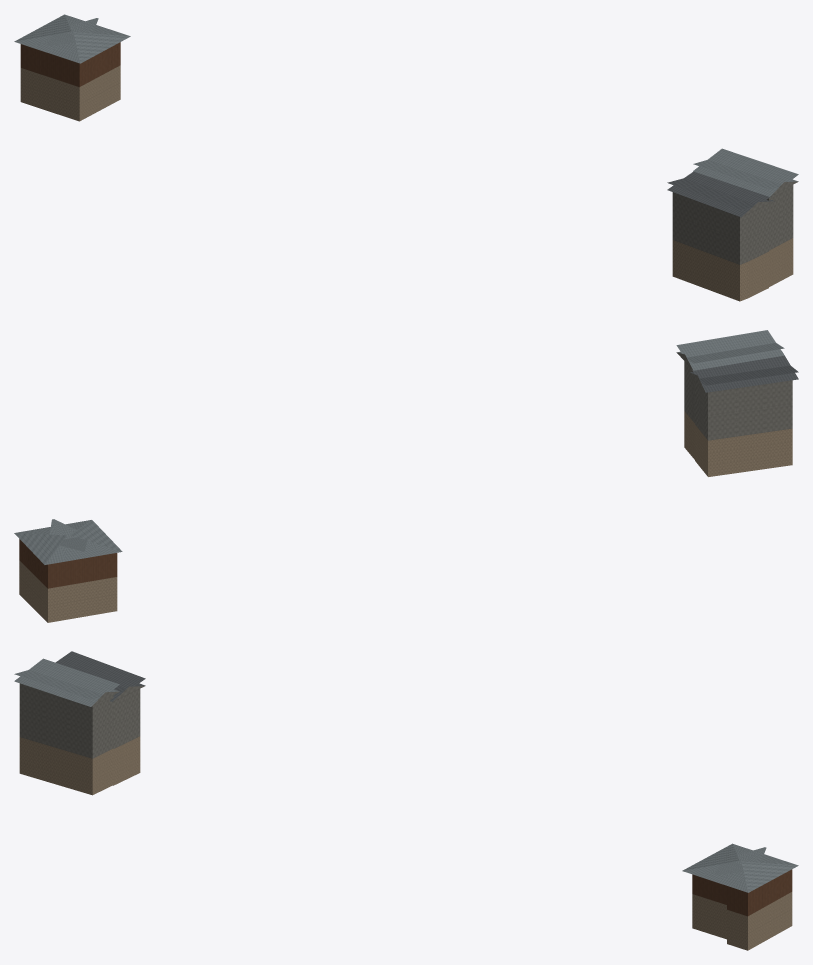
The model's file is bld_c15_38_413.gltf.
The picture shows the model from 3 angles, top to bottom: view 1: azimuth 90°, elevation 25°; view 2: azimuth 150°, elevation 25°; view 3: azimuth 270°, elevation 25°; orthographic projection.
Parts seen in each view (by area): view 1: bld_c15_38_413; view 2: bld_c15_38_413; view 3: bld_c15_38_413.
Boxes of the visible parts, x1=… form: bld_c15_38_413: x1=14, y1=14, x2=798, y2=301; bld_c15_38_413: x1=14, y1=330, x2=798, y2=622; bld_c15_38_413: x1=14, y1=651, x2=798, y2=950.
Size of the model in its own units: 65.41 by 14 by 99.16.
6 materials, 6 textured.
